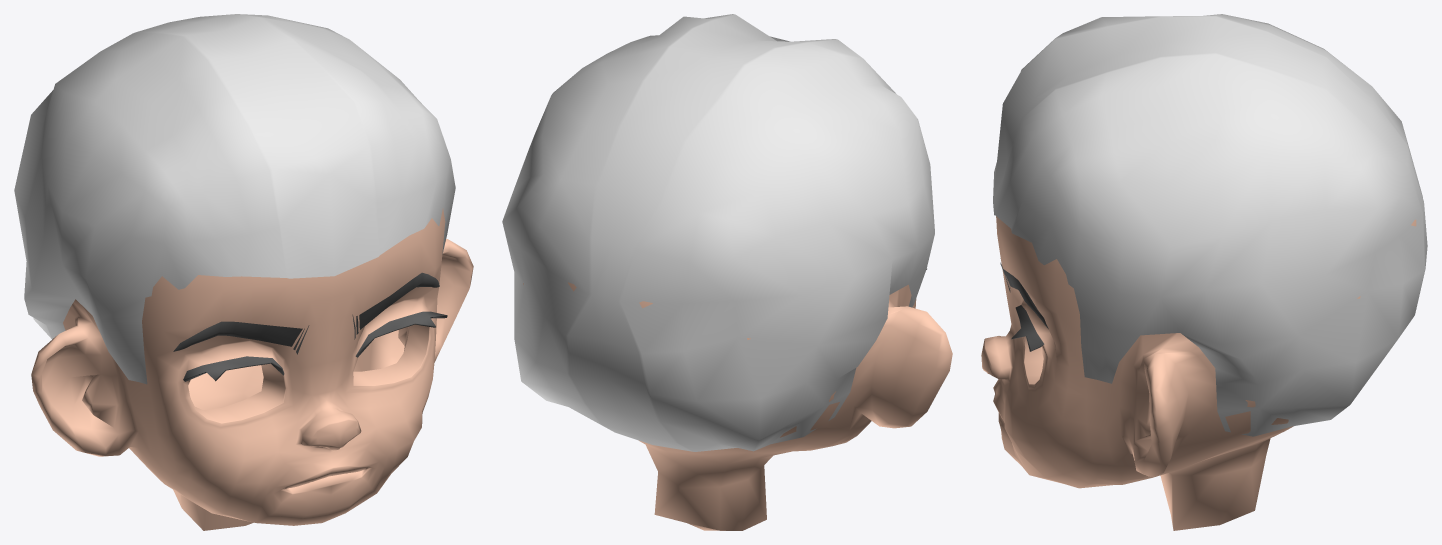
Rendered from chibi_pixar_mix_character_Head.fbx.
3 views of the same model, side by side, from view 1: azimuth 30°, elevation 25°; view 2: azimuth 150°, elevation 25°; view 3: azimuth 270°, elevation 25° (orthographic).
Parts seen in each view (by area): view 1: Hair Base, Cube; view 2: Hair Base, Cube; view 3: Hair Base, Cube.
Boxes of the visible parts, x1,y1,x2,y2 form: Hair Base: (14,14,455,384); Cube: (31,208,473,530); Hair Base: (502,14,934,451); Cube: (523,269,952,530); Hair Base: (993,14,1427,436); Cube: (981,216,1416,530).
Size of the model in its own units: 244 by 255 by 214.
